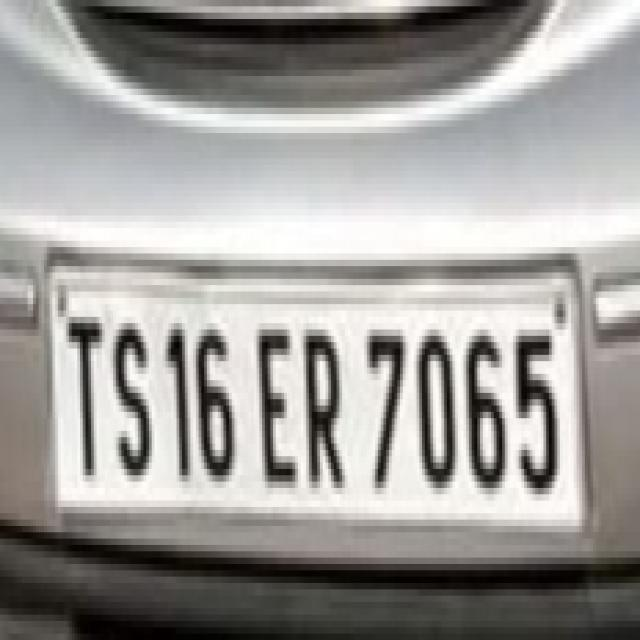0: (414, 305, 461, 502)
1: (163, 306, 194, 494)
5: (510, 306, 561, 500)
6: (461, 317, 514, 504), (190, 314, 238, 503)
7: (362, 306, 410, 506)
E: (252, 310, 300, 503)
R: (298, 310, 348, 500)
S: (108, 308, 160, 492)
T: (64, 304, 106, 494)
